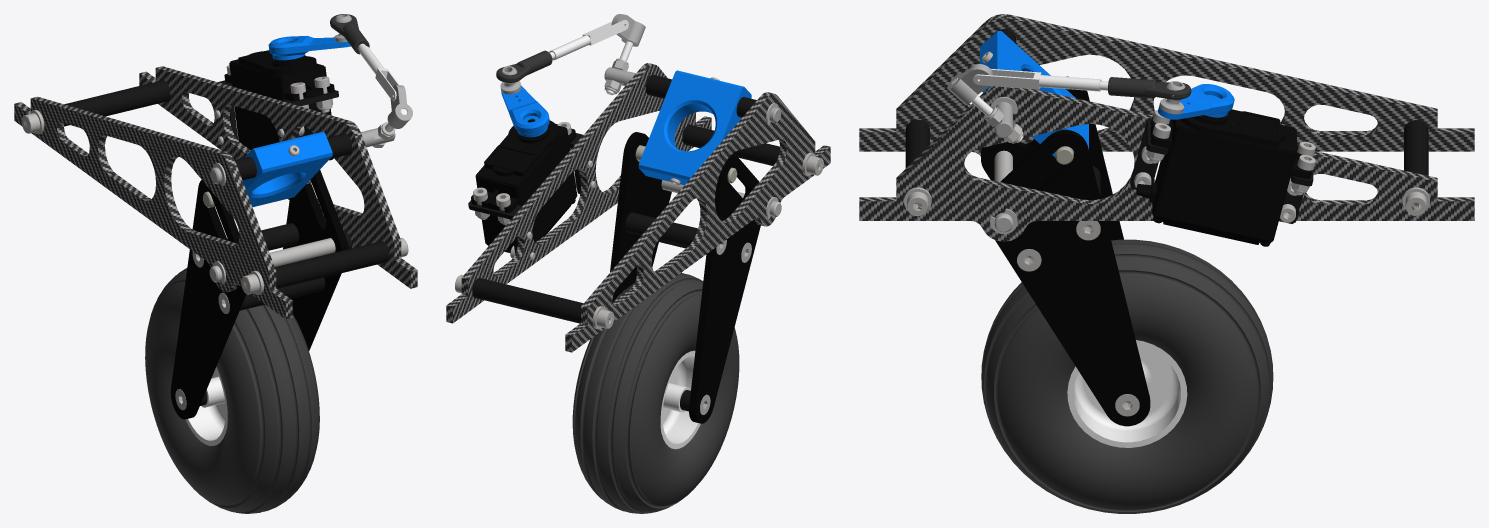
Rendered from Glider-Retract-Landing-Gear.glb.
The picture shows the model from 3 angles, left to right: view 1: azimuth 30°, elevation 25°; view 2: azimuth 150°, elevation 25°; view 3: azimuth 270°, elevation 25°; orthographic projection. The views are drawn at different scales.
Parts seen in each view (by area): view 1: Solid1 (×17), F_1, Solid2; view 2: Solid1 (×16), F_1, Solid2; view 3: Solid1 (×14), F_1, Solid2.
Part boxes in pixels (x1,y1,x2,y2): Solid1 (×17): (14,14,412,513); F_1: (139,66,417,288); Solid2: (224,50,334,101); Solid1 (×16): (468,14,830,513); F_1: (446,63,711,323); Solid2: (471,119,576,212); Solid1 (×14): (859,14,1474,513); F_1: (859,86,1474,241); Solid2: (1150,109,1312,179).
Bounding box in the file's own units: 0.0951 × 0.1794 × 0.2.
Materials: 22 (1 with a texture image).
